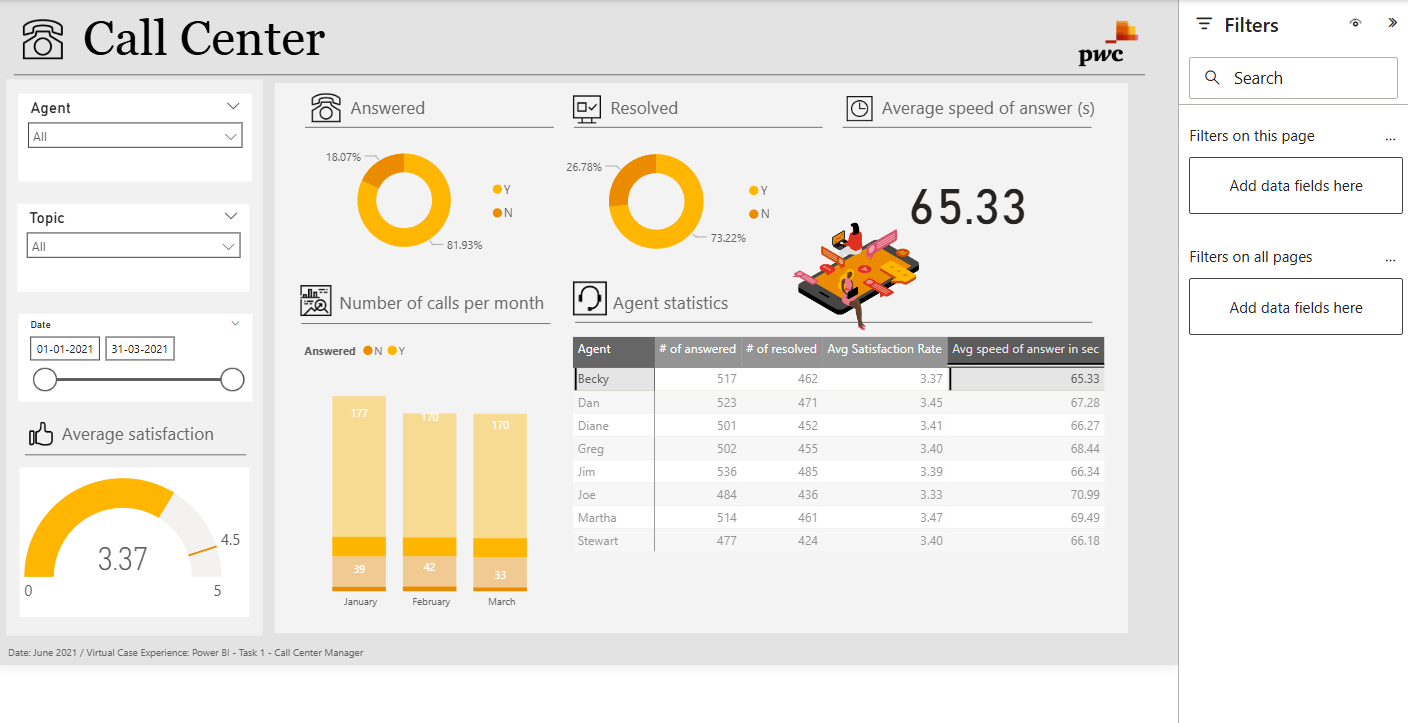

The dashboard page shown, as its layout file describes it:
{"tool":"powerbi","page":{"name":"Call Center Manager","canvas":[1280,720],"ordinal":0},"visuals":[{"type":"textbox","box":[89.7,4.8,1172,75.2],"z":0},{"type":"basicShape","box":[9,61,1244.3,40.1],"z":1000},{"type":"basicShape","box":[8.7,80.1,283.6,614.4],"z":2000},{"type":"basicShape","box":[292.6,83.8,942.7,607.6],"z":3000},{"type":"image","box":[1129,0,151,94.5],"z":4000},{"type":"image","box":[24.1,7.7,53.1,68.5],"z":5000},{"type":"columnChart","fields":{"Category":["Call Center.Date.Variation.Date Hierarchy.Month"],"Y":["CountNonNull(Call Center.Call Id)"],"Series":["Call Center.Answered (Y/N)"]},"box":[329.5,359.7,284.8,308.3],"z":6000},{"type":"slicer","fields":{"Values":["Call Center.Date"]},"box":[24.6,339.5,252.4,94.9],"z":7000},{"type":"pivotTable","fields":{"Rows":["Call Center.Agent"],"Values":["Call Center.# of answered","Call Center.# of resolved","Avg(Call Center.Satisfaction rating)","Avg(Call Center.Speed of answer in seconds)"]},"box":[619.9,359.7,607.6,279.2],"z":8000},{"type":"slicer","fields":{"Values":["Call Center.Agent"]},"box":[24.6,101.6,252.4,95],"z":9000},{"type":"slicer","fields":{"Values":["Call Center.Topic"]},"box":[23.5,220.6,251.3,94.9],"z":10000},{"type":"donutChart","fields":{"Category":["Call Center.Resolved"],"Y":["CountNonNull(Call Center.Resolved)"]},"box":[611,143,242.4,149.7],"z":11000},{"type":"gauge","fields":{"Y":["Avg(Call Center.Satisfaction rating)"],"MaxValue":["Max(Call Center.Satisfaction rating)"],"TargetValue":["Call Center.Target Value Satisfaction"]},"box":[25.7,506,249.1,162],"z":12000},{"type":"image","box":[31.1,452.4,35.7,35.7],"z":13000},{"type":"textbox","box":[66.8,452.4,188.1,35.7],"z":14000},{"type":"basicShape","box":[21.2,472.5,259.1,40.2],"z":15000},{"type":"donutChart","fields":{"Category":["Call Center.Answered (Y/N)"],"Y":["CountNonNull(Call Center.Answered (Y/N))"]},"box":[341.8,141.8,232.3,149.7],"z":16000},{"type":"textbox","box":[378.6,98.3,172,35.7],"z":17000},{"type":"textbox","box":[660.1,98.3,183.2,35.7],"z":18000},{"type":"card","fields":{"Values":["Avg(Call Center.Speed of answer in seconds)"]},"box":[953.9,148.6,196.6,136.3],"z":19000},{"type":"basicShape","box":[906.9,118.4,289.3,40.2],"z":20000},{"type":"textbox","box":[953.9,98.3,250.2,35.7],"z":21000},{"type":"basicShape","box":[325,118.4,289,40.2],"z":22000},{"type":"basicShape","box":[616,118.4,289,40.2],"z":23000},{"type":"image","box":[915.9,88.2,38,59.2],"z":24000},{"type":"image","box":[337.3,94.9,41.3,43.6],"z":25000},{"type":"image","box":[619.9,88.2,40.2,61.4],"z":26000},{"type":"textbox","box":[367.4,310.5,250.2,35.7],"z":27000},{"type":"basicShape","box":[320.5,330.6,289.3,40.2],"z":28000},{"type":"textbox","box":[663.4,309.3,250.2,35.7],"z":29000},{"type":"basicShape","box":[616.5,329.5,579.7,40.2],"z":30000},{"type":"image","box":[619.9,294.9,46.9,55.8],"z":31000},{"type":"image","box":[325,290.4,43.6,69.2],"z":32000},{"type":"image","box":[800.6,197.7,278.8,187.1],"z":33000},{"type":"textbox","box":[7.7,691.6,403.2,28],"z":34000}]}

Visuals, with their boxes in screenshot pixels (x1, y1, x2, y2):
textbox: x1=52 y1=0 x2=1212 y2=50
basicShape: x1=0 y1=31 x2=1203 y2=71
basicShape: x1=0 y1=50 x2=253 y2=658
basicShape: x1=253 y1=54 x2=1185 y2=655
image: x1=1080 y1=0 x2=1230 y2=64
image: x1=0 y1=0 x2=40 y2=46
columnChart - Call Center.Date.Variation.Date Hierarchy.Month x CountNonNull(Call Center.Call Id): x1=289 y1=327 x2=571 y2=632
slicer - Call Center.Date: x1=0 y1=307 x2=237 y2=400
pivotTable - Call Center.Agent x Call Center.# of answered: x1=577 y1=327 x2=1178 y2=603
slicer - Call Center.Agent: x1=0 y1=71 x2=237 y2=165
slicer - Call Center.Topic: x1=0 y1=189 x2=235 y2=283
donutChart - Call Center.Resolved x CountNonNull(Call Center.Resolved): x1=568 y1=112 x2=808 y2=260
gauge - Avg(Call Center.Satisfaction rating) x Max(Call Center.Satisfaction rating): x1=0 y1=471 x2=235 y2=632
image: x1=0 y1=418 x2=29 y2=454
textbox: x1=29 y1=418 x2=216 y2=454
basicShape: x1=0 y1=438 x2=241 y2=478
donutChart - Call Center.Answered (Y/N) x CountNonNull(Call Center.Answered (Y/N)): x1=301 y1=111 x2=531 y2=259
textbox: x1=338 y1=68 x2=508 y2=103
textbox: x1=616 y1=68 x2=798 y2=103
card - Avg(Call Center.Speed of answer in seconds): x1=907 y1=118 x2=1102 y2=253
basicShape: x1=861 y1=88 x2=1147 y2=128
textbox: x1=907 y1=68 x2=1155 y2=103
basicShape: x1=285 y1=88 x2=571 y2=128
basicShape: x1=573 y1=88 x2=859 y2=128
image: x1=869 y1=58 x2=907 y2=117
image: x1=297 y1=65 x2=338 y2=108
image: x1=577 y1=58 x2=616 y2=119
textbox: x1=327 y1=278 x2=574 y2=313
basicShape: x1=280 y1=298 x2=567 y2=338
textbox: x1=620 y1=277 x2=867 y2=312
basicShape: x1=573 y1=297 x2=1147 y2=336
image: x1=577 y1=262 x2=623 y2=318
image: x1=285 y1=258 x2=328 y2=326
image: x1=755 y1=166 x2=1031 y2=351
textbox: x1=0 y1=655 x2=370 y2=683
